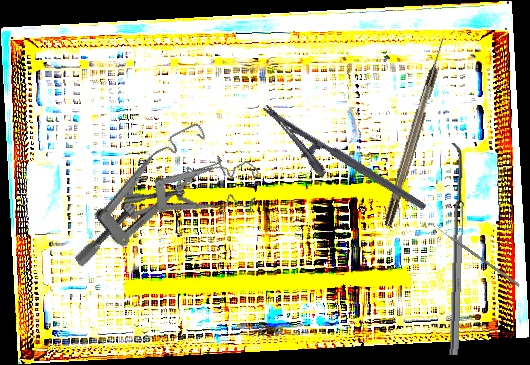Hook Surgical: (381, 34, 450, 228)
Needle Holder: (247, 102, 428, 233)
Pusher: (429, 222, 521, 287)
Spatula Surgical: (441, 142, 466, 356)
Speculum: (45, 119, 236, 270), (122, 131, 266, 239)
